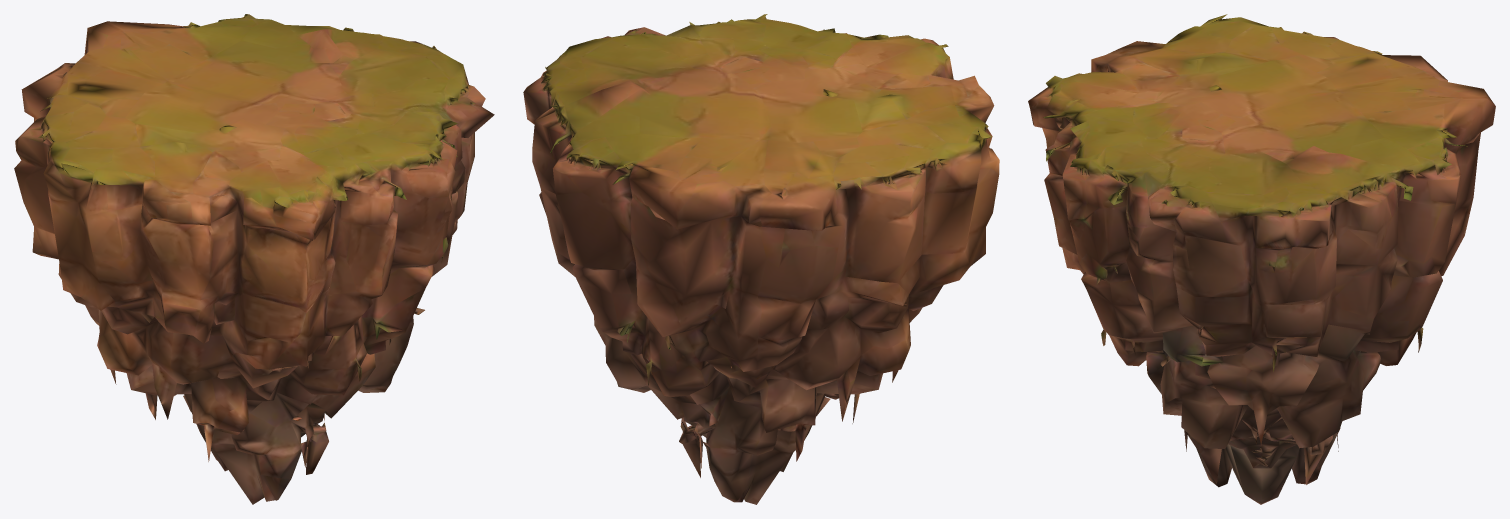
File: cliff-a.glb
3 renders of one model, left to right at view 1: azimuth 30°, elevation 25°; view 2: azimuth 150°, elevation 25°; view 3: azimuth 270°, elevation 25°, orthographic. The views are drawn at different scales.
Visible parts, largest first — view 1: tripo_node_aa6fa887-aa9e-4bea-958b-35b7e9a38ddb; view 2: tripo_node_aa6fa887-aa9e-4bea-958b-35b7e9a38ddb; view 3: tripo_node_aa6fa887-aa9e-4bea-958b-35b7e9a38ddb.
Part boxes in pixels (x1,y1,x2,y2): tripo_node_aa6fa887-aa9e-4bea-958b-35b7e9a38ddb: [14, 14, 494, 504]; tripo_node_aa6fa887-aa9e-4bea-958b-35b7e9a38ddb: [523, 14, 999, 504]; tripo_node_aa6fa887-aa9e-4bea-958b-35b7e9a38ddb: [1028, 14, 1495, 504].
Size of the model in its own units: 0.9767 by 0.9243 by 0.9691.
1 material, 1 textured.
